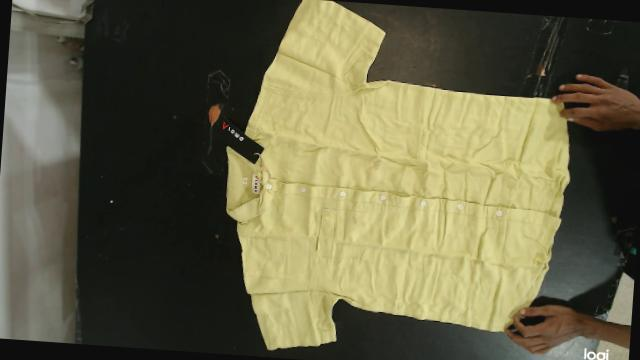new-garment: (215, 0, 569, 349)
